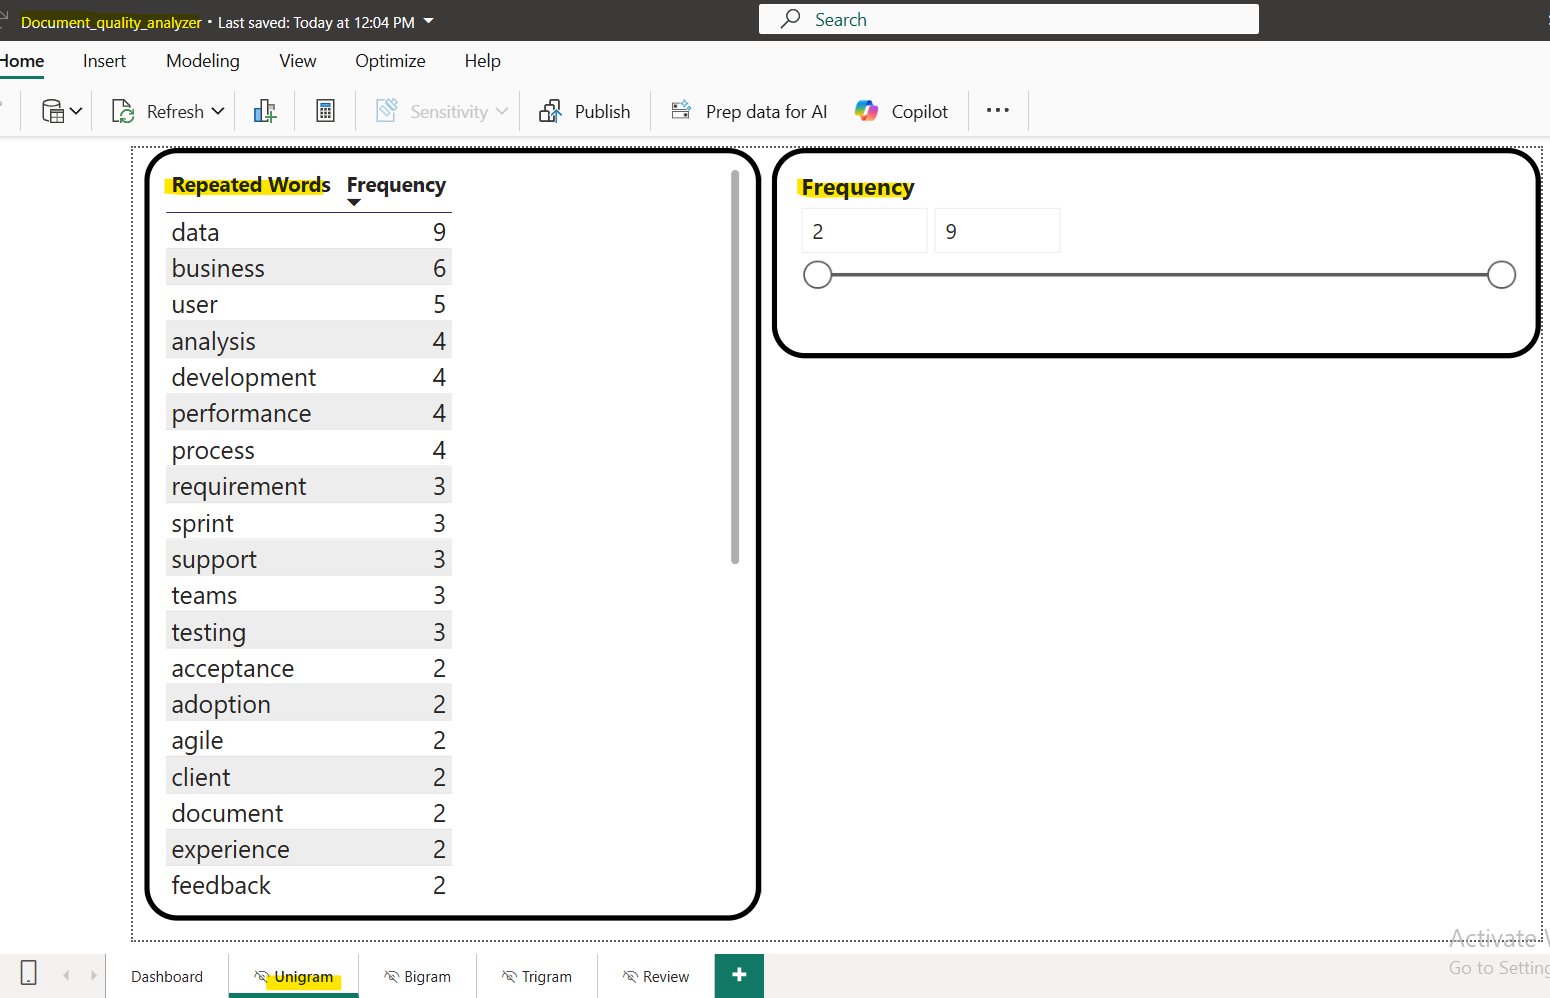

What the dashboard file says about the page in this screenshot:
{"tool":"powerbi","page":{"name":"Unigram","canvas":[1280,720],"ordinal":1},"visuals":[{"type":"tableEx","fields":{"Values":["Unigram.Repeated Words","Unigram.Frequency"]},"box":[10.2,0,560.8,702.6],"z":0},{"type":"slicer","fields":{"Values":["Unigram.Frequency"]},"box":[580.7,0,698.9,190.9],"z":1000}]}

Visuals, with their boxes on the page's 1280x720 design canvas (x1, y1, x2, y2). These are canvas units, not pixel positions in the 1550x998 screenshot, which may show the page scaled, cropped or inside an application window:
tableEx - Unigram.Repeated Words x Unigram.Frequency: (10,0,571,703)
slicer - Unigram.Frequency: (581,0,1280,191)
